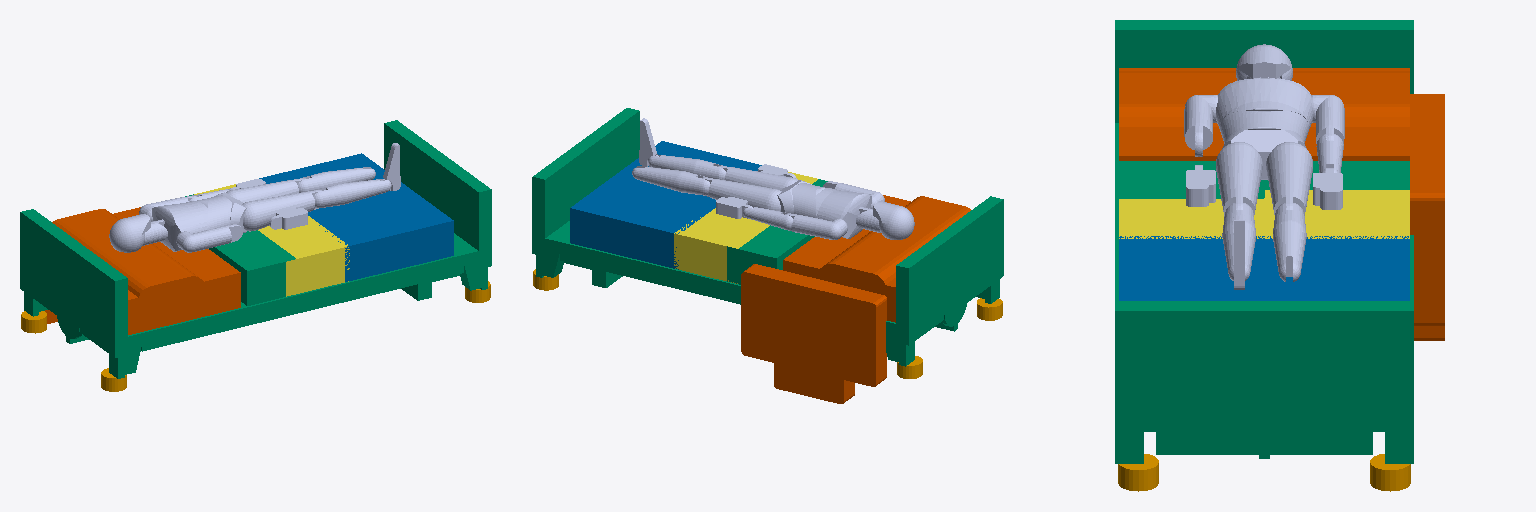
--- Render facts (derived) ---
The picture shows the robot from 3 angles, left to right: view 1: azimuth 30°, elevation 25°; view 2: azimuth 150°, elevation 25°; view 3: azimuth 270°, elevation 25°; orthographic projection.
Robot: bed_and_environment_cali_henry_tray — 33 links, 32 joints (25 revolute, 4 prismatic, 3 fixed); root link autobed/base_link; default pose: every joint at zero.
Links seen in each view (by area): view 1: autobed/bed_frame_link, autobed/head_rest_link, autobed/leg_rest_lower, autobed/leg_rest_upper, autobed/upper_body_link, autobed/quad_right_link, autobed/calf_right_link, autobed/base_link, autobed/head_link, autobed/arm_right_link, autobed/calf_left_link, autobed/quad_left_link (+3 smaller); view 2: autobed/bed_frame_link, autobed/head_rest_link, autobed/leg_rest_lower, autobed/leg_rest_upper, autobed/upper_body_link, autobed/calf_left_link, autobed/quad_left_link, autobed/base_link, autobed/head_link, autobed/calf_right_link, autobed/arm_left_link, autobed/quad_right_link (+4 smaller); view 3: autobed/bed_frame_link, autobed/head_rest_link, autobed/leg_rest_lower, autobed/leg_rest_upper, autobed/upper_body_link, autobed/quad_left_link, autobed/quad_right_link, autobed/base_link, autobed/calf_left_link, autobed/mid_body_link, autobed/arm_right_link, autobed/head_link (+7 smaller).
Link boxes in pixels (bbox=[...]): autobed/bed_frame_link: bbox=[20, 120, 491, 378]; autobed/head_rest_link: bbox=[45, 207, 240, 334]; autobed/leg_rest_lower: bbox=[259, 153, 453, 281]; autobed/leg_rest_upper: bbox=[194, 184, 349, 296]; autobed/upper_body_link: bbox=[151, 201, 208, 251]; autobed/quad_right_link: bbox=[242, 190, 321, 231]; autobed/calf_right_link: bbox=[313, 179, 391, 207]; autobed/base_link: bbox=[21, 281, 490, 391]; autobed/head_link: bbox=[109, 214, 150, 252]; autobed/arm_right_link: bbox=[176, 224, 242, 252]; autobed/calf_left_link: bbox=[298, 167, 375, 192]; autobed/quad_left_link: bbox=[226, 178, 305, 202]; autobed/bed_frame_link: bbox=[532, 108, 1003, 366]; autobed/head_rest_link: bbox=[741, 195, 970, 403]; autobed/leg_rest_lower: bbox=[570, 141, 761, 269]; autobed/leg_rest_upper: bbox=[674, 172, 817, 283]; autobed/upper_body_link: bbox=[815, 188, 872, 238]; autobed/calf_left_link: bbox=[632, 166, 709, 195]; autobed/quad_left_link: bbox=[702, 177, 781, 211]; autobed/base_link: bbox=[533, 269, 1002, 378]; autobed/head_link: bbox=[873, 201, 914, 239]; autobed/calf_right_link: bbox=[648, 154, 725, 179]; autobed/arm_left_link: bbox=[785, 213, 847, 239]; autobed/quad_right_link: bbox=[717, 165, 797, 190]; autobed/bed_frame_link: bbox=[1115, 20, 1413, 463]; autobed/head_rest_link: bbox=[1119, 68, 1444, 340]; autobed/leg_rest_lower: bbox=[1119, 236, 1409, 300]; autobed/leg_rest_upper: bbox=[1119, 190, 1409, 238]; autobed/upper_body_link: bbox=[1216, 78, 1313, 128]; autobed/quad_left_link: bbox=[1266, 142, 1312, 215]; autobed/quad_right_link: bbox=[1216, 142, 1262, 215]; autobed/base_link: bbox=[1118, 454, 1410, 491]; autobed/calf_left_link: bbox=[1273, 203, 1306, 281]; autobed/mid_body_link: bbox=[1220, 111, 1308, 143]; autobed/arm_right_link: bbox=[1184, 95, 1217, 156]; autobed/head_link: bbox=[1236, 44, 1292, 80].
Bounding box of the posed robot: 2.41 × 1.13 × 1.03 m (x, y, z).
Meshes: 23 distinct files referenced, 20 mesh visuals loaded (20 binary STL); not drawn: 3 (reference not matched to a file when rendering).

The robot description file, URDF, robot "bed_and_environment_cali_henry_tray":
<?xml version="1.0"?>
<robot
  name="bed_and_environment_cali_henry_tray">
  <link
   name="autobed/base_link">
    <inertial>
      <origin
        xyz="1.1357 5.02524375187963E-16 0.0837923121940762"
        rpy="0 0 0" />
      <mass
        value="6.1860172808288" />
      <inertia
        ixx="1.21978721906848"
        ixy="2.44249065417534E-15"
        ixz="-1.95644145492449E-15"
        iyy="8.04681346721547"
        iyz="-8.29396064187448E-16"
        izz="9.14286094259782" />
    </inertial>
    <visual>
      <origin
        xyz="0 0 0"
        rpy="0 0 0" />
      <geometry>
        <mesh
          filename="package://hrl_base_selection/urdf/bed_and_environment_cali_henry_tray/meshes/base_link.STL" />
      </geometry>
    </visual>
    <collision>
      <origin
        xyz="0 0 0"
        rpy="0 0 0" />
      <geometry>
        <mesh
          filename="package://hrl_base_selection/urdf/bed_and_environment_cali_henry_tray/meshes/base_link.STL" />
      </geometry>
    </collision>
  </link>
    <link
   name="autobed/wall_link">
    <inertial>
      <origin
        xyz="1.85973617610096 0.322876413955559 0.506156564666783"
        rpy="0 0 0" />
      <mass
        value="3480.34879229199" />
      <inertia
        ixx="6193.4907032472"
        ixy="3253.06972401852"
        ixz="-11.5632809249146"
        iyy="7114.12294656335"
        iyz="386.100445501856"
        izz="12101.3286461396" />
    </inertial>
    <visual>
      <origin
        xyz="0 0 0"
        rpy="0 0 0" />
      <geometry>
        <mesh
          filename="package://hrl_base_selection/urdf/bed_and_environment_cali_henry_tray/meshes/wall_link.STL" />
      </geometry>
    </visual>
    <collision>
      <origin
        xyz="0 0 0"
        rpy="0 0 0" />
      <geometry>
        <mesh
          filename="package://hrl_base_selection/urdf/bed_and_environment_cali_henry_tray/meshes/wall_link.STL" />
      </geometry>
    </collision>
  </link>
  <joint
   name="autobed/origin_wall_joint"
    type="fixed">
    <origin
      xyz="-0.12155 -0.0043316 0"
      rpy="0 0 -0.053897" />
    <parent
      link="autobed/base_link" />
    <child
      link="autobed/wall_link" />
    <axis
      xyz="0 0 0" />
  </joint>
  <link
   name="autobed/bed_frame_link">
    <inertial>
      <origin
        xyz="1.20574977089702 -0.00197319632794563 0.010463658046454"
        rpy="0 0 0" />
      <mass
        value="298.525793737685" />
      <inertia
        ixx="25.3079805393988"
        ixy="0.124705215046845"
        ixz="-6.18752707469867"
        iyy="161.196265779885"
        iyz="0.0978345240222597"
        izz="178.196491872743" />
    </inertial>
    <visual>
      <origin
        xyz="0 0 0"
        rpy="0 0 0" />
      <geometry>
        <mesh
          filename="package://hrl_base_selection/urdf/bed_and_environment_cali_henry_tray/meshes/bed_frame_link.STL" />
      </geometry>
    </visual>
    <collision>
      <origin
        xyz="0 0 0"
        rpy="0 0 0" />
      <geometry>
        <mesh
          filename="package://hrl_base_selection/urdf/bed_and_environment_cali_henry_tray/meshes/bed_frame_link.STL" />
      </geometry>
    </collision>
  </link>
  <joint
   name="autobed/tele_legs_joint"
    type="prismatic">
    <origin
      xyz="-0.0400000000000005 0 0.320000000000001"
      rpy="0 0 0" />
    <parent
      link="autobed/base_link" />
    <child
      link="autobed/bed_frame_link" />
    <axis
      xyz="0 0 1" />
    <limit
      lower="-1"
      upper="1"
      effort="0"
      velocity="0" />
  </joint>
  <link
   name="autobed/leg_rest_upper">
    <inertial>
      <origin
        xyz="0.184999999999998 0.10500000000001 6.79804630482359E-16"
        rpy="0 0 0" />
      <mass
        value="71.0955000000001" />
      <inertia
        ixx="5.22152012812501"
        ixy="-3.21389401302034E-17"
        ixz="-3.22023131917487E-17"
        iyy="5.77132532812501"
        iyz="-2.87322532068486E-15"
        izz="1.072357125" />
    </inertial>
    <visual>
      <origin
        xyz="0 0 0"
        rpy="0 0 0" />
      <geometry>
        <mesh
          filename="package://hrl_base_selection/urdf/bed_and_environment_cali_henry_tray/meshes/leg_rest_upper.STL" />
      </geometry>
    </visual>
    <collision>
      <origin
        xyz="0 0 0"
        rpy="0 0 0" />
      <geometry>
        <mesh
          filename="package://hrl_base_selection/urdf/bed_and_environment_cali_henry_tray/meshes/leg_rest_upper.STL" />
      </geometry>
    </collision>
  </link>
  <joint
   name="autobed/leg_rest_upper_hinge"
    type="revolute">
    <origin
      xyz="1.075 0 0"
      rpy="1.5708 -1.8438E-16 7.6543E-16" />
    <parent
      link="autobed/bed_frame_link" />
    <child
      link="autobed/leg_rest_upper" />
    <axis
      xyz="0 0 1" />
    <limit
      lower="-2"
      upper="2"
      effort="0"
      velocity="0" />
  </joint>
  <link
   name="autobed/leg_rest_lower">
    <inertial>
      <origin
        xyz="0.325000000000004 0.104999999999987 -1.38760699713425E-16"
        rpy="0 0 0" />
      <mass
        value="124.8975" />
      <inertia
        ixx="9.172940765625"
        ixy="-4.25925024767052E-17"
        ixz="-8.25969319809873E-16"
        iyy="13.111375265625"
        iyz="2.10674154540826E-16"
        izz="4.856431125" />
    </inertial>
    <visual>
      <origin
        xyz="0 0 0"
        rpy="0 0 0" />
      <geometry>
        <mesh
          filename="package://hrl_base_selection/urdf/bed_and_environment_cali_henry_tray/meshes/leg_rest_lower.STL" />
      </geometry>
    </visual>
    <collision>
      <origin
        xyz="0 0 0"
        rpy="0 0 0" />
      <geometry>
        <mesh
          filename="package://hrl_base_selection/urdf/bed_and_environment_cali_henry_tray/meshes/leg_rest_lower.STL" />
      </geometry>
    </collision>
  </link>
  <joint
   name="autobed/leg_rest_lower_hinge"
    type="revolute">
    <origin
      xyz="0.37 0 0"
      rpy="8.4655E-16 -2.4744E-16 -1.8316E-16" />
    <parent
      link="autobed/leg_rest_upper" />
    <child
      link="autobed/leg_rest_lower" />
    <axis
      xyz="0 0 -1" />
    <limit
      lower="-2"
      upper="2"
      effort="0"
      velocity="0" />
  </joint>
  <link
   name="autobed/head_rest_link">
    <inertial>
      <origin
        xyz="0.338540021639504 -0.102807900235519 0.0331726512276706"
        rpy="0 0 0" />
      <mass
        value="158.265573279578" />
      <inertia
        ixx="13.8116841883572"
        ixy="0.366851813056848"
        ixz="-0.640983438566653"
        iyy="18.5647228773414"
        iyz="-0.857921499431992"
        izz="7.19318513198363" />
    </inertial>
    <visual>
      <origin
        xyz="0 0 0"
        rpy="0 0 0" />
      <geometry>
        <mesh
          filename="package://hrl_base_selection/urdf/bed_and_environment_cali_henry_tray/meshes/head_rest_link.STL" />
      </geometry>
    </visual>
    <collision>
      <origin
        xyz="0 0 0"
        rpy="0 0 0" />
      <geometry>
        <mesh
          filename="package://hrl_base_selection/urdf/bed_and_environment_cali_henry_tray/meshes/head_rest_link.STL" />
      </geometry>
    </collision>
  </link>
  <joint
   name="autobed/head_rest_hinge"
    type="revolute">
    <origin
      xyz="0.795 0 0.21"
      rpy="1.5708 0 -3.1416" />
    <parent
      link="autobed/bed_frame_link" />
    <child
      link="autobed/head_rest_link" />
    <axis
      xyz="0 0 1" />
    <limit
      lower="-2"
      upper="2"
      effort="0"
      velocity="0" />
  </joint>
  <link
    name="autobed/neck_rotated_to_worldframe_link">
  </link>
  <joint
    name="autobed/headrest_bed_to_worldframe_joint"
    type="revolute">
    <origin
      xyz="0.25949 0.1 0"
      rpy="0. 0. 0." />
    <!--<origin-->
      <!--xyz="0.40949 0.05 0"-->
      <!--rpy="0. 0. 0." />-->
    <parent
      link="autobed/head_rest_link" />
    <child
      link="autobed/neck_rotated_to_worldframe_link" />
    <axis
      xyz="0 0 1" />
    <limit
      lower="-2"
      upper="2"
      effort="0"
      velocity="0" />
  </joint>
  <link
    name="autobed/neck_updown_worldframe_translation_link">
  </link>
  <joint
    name="autobed/bed_neck_worldframe_updown_joint"
    type="prismatic">
    <origin
      xyz="0.0 0.0 0"
      rpy="0.0 0.0 0.0" />
    <parent
      link="autobed/neck_rotated_to_worldframe_link" />
    <child
      link="autobed/neck_updown_worldframe_translation_link" />
    <axis
      xyz="-1 0 0" />
    <limit
      lower="-2"
      upper="2"
      effort="0"
      velocity="0" />
  </joint>
  <link
    name="autobed/neck_rotated_to_bedframe_link">
  </link>
  <joint
    name="autobed/bed_neck_to_bedframe_joint"
    type="revolute">
    <origin
      xyz="0.0 0.0 0"
      rpy="0. 0. 0." />
    <parent
      link="autobed/neck_updown_worldframe_translation_link" />
    <child
      link="autobed/neck_rotated_to_bedframe_link" />
    <axis
      xyz="0 0 1" />
    <limit
      lower="-2"
      upper="2"
      effort="0"
      velocity="0" />
  </joint>
  <link
    name="autobed/neck_updown_bedframe_translation_link">
  </link>
  <joint
    name="autobed/bed_neck_base_updown_bedframe_joint"
    type="prismatic">
    <origin
      xyz="0.0 0.0 0"
      rpy="0. 0. 0." />
    <parent
      link="autobed/neck_rotated_to_bedframe_link" />
    <child
      link="autobed/neck_updown_bedframe_translation_link" />
    <axis
      xyz="-1 0 0" />
    <limit
      lower="-2"
      upper="2"
      effort="0"
      velocity="0" />
  </joint>
  <link
    name="autobed/neck_base_link">
  </link>
  <joint
    name="autobed/bed_neck_base_leftright_joint"
    type="prismatic">
    <origin
      xyz="0 0 0"
      rpy="0 3.14159 0" />
    <parent
      link="autobed/neck_updown_bedframe_translation_link" />
    <child
      link="autobed/neck_base_link" />
    <axis
      xyz="0 0 -1" />
    <limit
      lower="-2"
      upper="2"
      effort="0"
      velocity="0" />
  </joint>
  <link
    name="autobed/neck_twist_link">
  </link>
  <joint
    name="autobed/neck_twist_joint"
    type="revolute">
    <origin
      xyz="0.0 0.0 0"
      rpy="0. 0. 0." />
    <parent
      link="autobed/neck_base_link" />
    <child
      link="autobed/neck_twist_link" />
    <axis
      xyz="1 0 0" />
    <limit
      lower="-2"
      upper="2"
      effort="0"
      velocity="0" />
  </joint>
  <link
    name="autobed/neck_tilt_link">
  </link>
  <joint
    name="autobed/neck_tilt_joint"
    type="revolute">
    <origin
      xyz="0.0 0.0 0"
      rpy="0. 0. 0." />
    <parent
      link="autobed/neck_twist_link" />
    <child
      link="autobed/neck_tilt_link" />
    <axis
      xyz="0 0 -1" />
    <limit
      lower="-2"
      upper="2"
      effort="0"
      velocity="0" />
  </joint>
  <link
    name="autobed/neck_link">
    <visual>
      <origin
        xyz="0 0 0"
        rpy="0 0 0" />
      <geometry>
        <mesh
          filename="package://hrl_base_selection/urdf/bed_and_environment_cali_henry_tray/meshes/neck_link.STL" />
      </geometry>
      <material
        name="">
        <color
          rgba="0.792156862745098 0.819607843137255 0.933333333333333 1" />
      </material>
    </visual>
    <collision>
      <origin
        xyz="0 0 0"
        rpy="0 0 0" />
      <geometry>
        <mesh
          filename="package://hrl_base_selection/urdf/bed_and_environment_cali_henry_tray/meshes/neck_link.STL" />
      </geometry>
    </collision>
  </link>
  <joint
    name="autobed/neck_to_neck_top_joint"
    type="fixed">
    <origin
      xyz="-0.07239 0 0"
      rpy="0 0 0" />
    <parent
      link="autobed/neck_tilt_link" />
    <child
      link="autobed/neck_link" />
  </joint>
  <link
    name="autobed/neck_top_rotated_link">
  </link>
  <joint
    name="autobed/neck_rotation_fixed_joint"
    type="fixed">
    <origin
      xyz="0 0 0"
      rpy="-1.570796 0 1.570796" />
    <parent
      link="autobed/neck_link" />
    <child
      link="autobed/neck_top_rotated_link" />
    <axis
      xyz="0 0 1" />
    <limit
      lower="-2"
      upper="2"
      effort="0"
      velocity="0" />
  </joint>
  <link
    name="autobed/head_roty_link">
  </link>
  <joint
    name="autobed/neck_head_roty_joint"
    type="revolute">
    <origin
      xyz="0.0154 0 0.07779"
      rpy="0 0 0" />
    <parent
      link="autobed/neck_top_rotated_link" />
    <child
      link="autobed/head_roty_link" />
    <axis
      xyz="0 1 0" />
    <limit
      lower="-2"
      upper="2"
      effort="0"
      velocity="0" />
  </joint>
  <link
    name="autobed/head_rotz_link">
  </link>
  <joint
    name="autobed/neck_head_rotz_joint"
    type="revolute">
    <origin
      xyz="0 0 0"
      rpy="0 0 0" />
    <parent
      link="autobed/head_roty_link" />
    <child
      link="autobed/head_rotz_link" />
    <axis
      xyz="0 0 1" />
    <limit
      lower="-2"
      upper="2"
      effort="0"
      velocity="0" />
  </joint>

  <link
    name="autobed/head_link">
    <visual>
      <origin
        xyz="0 0 0"
        rpy="0 0 0" />
      <geometry>
        <mesh
          filename="package://hrl_base_selection/urdf/bed_and_environment_cali_henry_tray/meshes/head_link.STL" />
      </geometry>
      <material
        name="">
        <color
          rgba="0.792156862745098 0.819607843137255 0.933333333333333 1" />
      </material>
    </visual>
    <collision>
      <origin
        xyz="0 0 0"
        rpy="0 0 0" />
      <geometry>
        <mesh
          filename="package://hrl_base_selection/urdf/bed_and_environment_cali_henry_tray/meshes/head_link.STL" />
      </geometry>
    </collision>
  </link>
  <joint
    name="autobed/neck_head_rotx_joint"
    type="revolute">
    <origin
      xyz="0 0 0"
      rpy="0 0 0" />
    <parent
      link="autobed/head_rotz_link" />
    <child
      link="autobed/head_link" />
    <axis
      xyz="1 0 0" />
    <limit
      lower="-2"
      upper="2"
      effort="0"
      velocity="0" />
  </joint>
  <link
    name="autobed/upper_body_link">
    <visual>
      <origin
        xyz="0 0 0"
        rpy="0 0 0" />
      <geometry>
        <mesh
          filename="package://hrl_base_selection/urdf/bed_and_environment_cali_henry_tray/meshes/upper_body_link.STL" />
      </geometry>
      <material
        name="">
        <color
          rgba="0.792156862745098 0.819607843137255 0.933333333333333 1" />
      </material>
    </visual>
    <collision>
      <origin
        xyz="0 0 0"
        rpy="0 0 0" />
      <geometry>
        <mesh
          filename="package://hrl_base_selection/urdf/bed_and_environment_cali_henry_tray/meshes/upper_body_link.STL" />
      </geometry>
    </collision>
  </link>
  <joint
    name="autobed/neck_body_joint"
    type="revolute">
    <origin
      xyz="0.00 0 0"
      rpy="0 0 0" />
    <parent
      link="autobed/neck_base_link" />
    <child
      link="autobed/upper_body_link" />
    <axis
      xyz="0 0 -1" />
    <limit
      lower="-2"
      upper="2"
      effort="0"
      velocity="0" />
  </joint>
  <link
    name="autobed/mid_body_link">
    <visual>
      <origin
        xyz="0 0 0"
        rpy="0 0 0" />
      <geometry>
        <mesh
          filename="package://hrl_base_selection/urdf/bed_and_environment_cali_henry_tray/meshes/mid_body_link.STL" />
      </geometry>
      <material
        name="">
        <color
          rgba="0.792156862745098 0.819607843137255 0.933333333333333 1" />
      </material>
    </visual>
    <collision>
      <origin
        xyz="0 0 0"
        rpy="0 0 0" />
      <geometry>
        <mesh
          filename="package://hrl_base_selection/urdf/bed_and_environment_cali_henry_tray/meshes/mid_body_link.STL" />
      </geometry>
    </collision>
  </link>
  <joint
    name="autobed/upper_mid_body_joint"
    type="revolute">
    <origin
      xyz="0.35052 0 0"
      rpy="0 0 0" />
    <parent
      link="autobed/upper_body_link" />
    <child
      link="autobed/mid_body_link" />
    <axis
      xyz="0 0 1" />
    <limit
      lower="-2"
      upper="2"
      effort="0"
      velocity="0" />
  </joint>
  <link
    name="autobed/lower_body_link">
    <visual>
      <origin
        xyz="0 0 0"
        rpy="0 0 0" />
      <geometry>
        <mesh
          filename="package://hrl_base_selection/urdf/bed_and_environment_cali_henry_tray/meshes/lower_body_link.STL" />
      </geometry>
      <material
        name="">
        <color
          rgba="0.792156862745098 0.819607843137255 0.933333333333333 1" />
      </material>
    </visual>
    <collision>
      <origin
        xyz="0 0 0"
        rpy="0 0 0" />
      <geometry>
        <mesh
          filename="package://hrl_base_selection/urdf/bed_and_environment_cali_henry_tray/meshes/lower_body_link.STL" />
      </geometry>
    </collision>
  </link>
  <joint
    name="autobed/mid_lower_body_joint"
    type="revolute">
    <origin
      xyz="0.15113 0 0"
      rpy="0 0 0" />
    <parent
      link="autobed/mid_body_link" />
    <child
      link="autobed/lower_body_link" />
    <axis
      xyz="0 0 1" />
    <limit
      lower="-2"
      upper="2"
      effort="0"
      velocity="0" />
  </joint>
  <link
    name="autobed/quad_left_link">
    <visual>
      <origin
        xyz="0 0 0"
        rpy="0 0 0" />
      <geometry>
        <mesh
          filename="package://hrl_base_selection/urdf/bed_and_environment_cali_henry_tray/meshes/quad_left_link.STL" />
      </geometry>
      <material
        name="">
        <color
          rgba="0.792156862745098 0.819607843137255 0.933333333333333 1" />
      </material>
    </visual>
    <collision>
      <origin
        xyz="0 0 0"
        rpy="0 0 0" />
      <geometry>
        <mesh
          filename="package://hrl_base_selection/urdf/bed_and_environment_cali_henry_tray/meshes/quad_left_link.STL" />
      </geometry>
    </collision>
  </link>
  <joint
    name="autobed/body_quad_left_joint"
    type="revolute">
    <origin
      xyz="0.05207 0 -0.08636"
      rpy="0 0 -.25" />
    <parent
      link="autobed/lower_body_link" />
    <child
      link="autobed/quad_left_link" />
    <axis
      xyz="0 0 1" />
    <limit
      lower="-3."
      upper="3."
      effort="0"
      velocity="0" />
  </joint>
  <link
    name="autobed/calf_left_link">
    <visual>
      <origin
        xyz="0 0 0"
        rpy="0 0 0" />
      <geometry>
        <mesh
          filename="package://hrl_base_selection/urdf/bed_and_environment_cali_henry_tray/meshes/calf_left_link.STL" />
      </geometry>
      <material
        name="">
        <color
          rgba="0.792156862745098 0.819607843137255 0.933333333333333 1" />
      </material>
    </visual>
    <collision>
      <origin
        xyz="0 0 0"
        rpy="0 0 0" />
      <geometry>
        <mesh
          filename="package://hrl_base_selection/urdf/bed_and_environment_cali_henry_tray/meshes/calf_left_link.STL" />
      </geometry>
    </collision>
  </link>
  <joint
    name="autobed/quad_calf_left_joint"
    type="revolute">
    <origin
      xyz="0.41218 0.11044 0"
      rpy="3.14159 0 3.43" />
    <parent
      link="autobed/quad_left_link" />
    <child
      link="autobed/calf_left_link" />
    <axis
      xyz="0 0 1" />
    <limit
      lower="-3."
      upper="3."
      effort="0"
      velocity="0" />
  </joint>
  <link
    name="autobed/foot_left_link">
    <visual>
      <origin
        xyz="0 0 0"
        rpy="0 0 0" />
      <geometry>
        <mesh
          filename="package://hrl_base_selection/urdf/bed_and_environment_cali_henry_tray/meshes/foot_left_link.STL" />
      </geometry>
      <material
        name="">
        <color
          rgba="0.792156862745098 0.819607843137255 0.933333333333333 1" />
      </material>
    </visual>
    <collision>
      <origin
        xyz="0 0 0"
        rpy="0 0 0" />
      <geometry>
        <mesh
          filename="package://hrl_base_selection/urdf/bed_and_environment_cali_henry_tray/meshes/foot_left_link.STL" />
      </geometry>
    </collision>
  </link>
  <joint
    name="autobed/calf_foot_left_joint"
    type="revolute">
    <origin
      xyz="-0.41279 -0.03188 0"
      rpy="0 0 0.09" />
    <parent
      link="autobed/calf_left_link" />
    <child
      link="autobed/foot_left_link" />
    <axis
      xyz="0 0 1" />
    <limit
      lower="-3."
      upper="3."
      effort="0"
      velocity="0" />
  </joint>
  <link
    name="autobed/quad_right_link">
    <visual>
      <origin
        xyz="0 0 0"
        rpy="0 0 0" />
      <geometry>
        <mesh
          filename="package://hrl_base_selection/urdf/bed_and_environment_cali_henry_tray/meshes/quad_right_link.STL" />
      </geometry>
      <material
        name="">
        <color
          rgba="0.792156862745098 0.819607843137255 0.933333333333333 1" />
      </material>
    </visual>
    <collision>
      <origin
        xyz="0 0 0"
        rpy="0 0 0" />
      <geometry>
        <mesh
          filename="package://hrl_base_selection/urdf/bed_and_environment_cali_henry_tray/meshes/quad_right_link.STL" />
      </geometry>
    </collision>
  </link>
  <joint
    name="autobed/body_quad_right_joint"
    type="revolute">
    <origin
      xyz="0.05207 0 0.08636"
      rpy="0 0 -.25" />
    <parent
      link="autobed/lower_body_link" />
    <child
      link="autobed/quad_right_link" />
    <axis
      xyz="0 0 1" />
    <limit
      lower="-3"
      upper="3"
      effort="0"
      velocity="0" />
  </joint>
  <link
    name="autobed/calf_right_link">
    <visual>
      <origin
        xyz="0 0 0"
        rpy="0 0 0" />
      <geometry>
        <mesh
          filename="package://hrl_base_selection/urdf/bed_and_environment_cali_henry_tray/meshes/calf_right_link.STL" />
      </geometry>
      <material
        name="">
        <color
          rgba="0.792156862745098 0.819607843137255 0.933333333333333 1" />
      </material>
    </visual>
    <collision>
      <origin
        xyz="0 0 0"
        rpy="0 0 0" />
      <geometry>
        <mesh
          filename="package://hrl_base_selection/urdf/bed_and_environment_cali_henry_tray/meshes/calf_right_link.STL" />
      </geometry>
    </collision>
  </link>
  <joint
    name="autobed/quad_calf_right_joint"
    type="revolute">
    <origin
      xyz="0.41218 0.11044 0"
      rpy="3.14159 0 3.43" />
    <parent
      link="autobed/quad_right_link" />
    <child
      link="autobed/calf_right_link" />
    <axis
      xyz="0 0 1" />
    <limit
      lower="-3"
      upper="3"
      effort="0"
      velocity="0" />
  </joint>
  <link
    name="autobed/foot_right_link">
    <visual>
      <origin
        xyz="0 0 0"
        rpy="0 0 0" />
      <geometry>
        <mesh
          filename="package://hrl_base_selection/urdf/bed_and_environment_cali_henry_tray/meshes/foot_right_link.STL" />
      </geometry>
      <material
        name="">
        <color
          rgba="0.792156862745098 0.819607843137255 0.933333333333333 1" />
      </material>
    </visual>
    <collision>
      <origin
        xyz="0 0 0"
        rpy="0 0 0" />
      <geometry>
        <mesh
          filename="package://hrl_base_selection/urdf/bed_and_environment_cali_henry_tray/meshes/foot_right_link.STL" />
      </geometry>
    </collision>
  </link>
  <joint
    name="autobed/calf_foot_right_joint"
    type="revolute">
    <origin
      xyz="-0.41279 -0.03188 0"
      rpy="0 0 0.09" />
    <parent
      link="autobed/calf_right_link" />
    <child
      link="autobed/foot_right_link" />
    <axis
      xyz="0 0 1" />
    <limit
      lower="-3"
      upper="3"
      effort="0"
      velocity="0" />
  </joint>
  <link
    name="autobed/arm_left_link">
    <visual>
      <origin
        xyz="0 0 0"
        rpy="0 0 0" />
      <geometry>
        <mesh
          filename="package://hrl_base_selection/urdf/bed_and_environment_cali_henry_tray/meshes/arm_left_link.STL" />
      </geometry>
      <material
        name="">
        <color
          rgba="0.792156862745098 0.819607843137255 0.933333333333333 1" />
      </material>
    </visual>
    <collision>
      <origin
        xyz="0 0 0"
        rpy="0 0 0" />
      <geometry>
        <mesh
          filename="package://hrl_base_selection/urdf/bed_and_environment_cali_henry_tray/meshes/arm_left_link.STL" />
      </geometry>
    </collision>
  </link>
  <joint
    name="autobed/body_arm_left_joint"
    type="revolute">
    <origin
      xyz="0.09652 0 -0.17526"
      rpy="0 0 0" />
    <parent
      link="autobed/upper_body_link" />
    <child
      link="autobed/arm_left_link" />
    <axis
      xyz="0 0 1" />
    <limit
      lower="-3"
      upper="3"
      effort="0"
      velocity="0" />
  </joint>
  <link
    name="autobed/forearm_left_link">
    <visual>
      <origin
        xyz="0 0 0"
        rpy="0 0 0" />
      <geometry>
        <mesh
          filename="package://hrl_base_selection/urdf/bed_and_environment_cali_henry_tray/meshes/forearm_left_link.STL" />
      </geometry>
      <material
        name="">
        <color
          rgba="0.792156862745098 0.819607843137255 0.933333333333333 1" />
      </material>
    </visual>
    <collision>
      <origin
        xyz="0 0 0"
        rpy="0 0 0" />
      <geometry>
        <mesh
          filename="package://hrl_base_selection/urdf/bed_and_environment_cali_henry_tray/meshes/forearm_left_link.STL" />
      </geometry>
    </collision>
  </link>
  <joint
    name="autobed/arm_forearm_left_joint"
    type="revolute">
    <origin
      xyz="0.28174 -0.0106 -0.04953"
      rpy="0 0 0" />
    <parent
      link="autobed/arm_left_link" />
    <child
      link="autobed/forearm_left_link" />
    <axis
      xyz="0 0 1" />
    <limit
      lower="-3"
      upper="3"
      effort="0"
      velocity="0" />
  </joint>
  <link
    name="autobed/hand_left_link">
    <visual>
      <origin
        xyz="0 0 0"
        rpy="0 0 0" />
      <geometry>
        <mesh
          filename="package://hrl_base_selection/urdf/bed_and_environment_cali_henry_tray/meshes/hand_left_link.STL" />
      </geometry>
      <material
        name="">
        <color
          rgba="0.792156862745098 0.819607843137255 0.933333333333333 1" />
      </material>
    </visual>
    <collision>
      <origin
        xyz="0 0 0"
        rpy="0 0 0" />
      <geometry>
        <mesh
          filename="package://hrl_base_selection/urdf/bed_and_environment_cali_henry_tray/meshes/hand_left_link.STL" />
      </geometry>
    </collision>
  </link>
  <joint
    name="autobed/forearm_hand_left_joint"
    type="revolute">
    <origin
      xyz="0.25146 0 0"
      rpy="0 0 0" />
    <parent
      link="autobed/forearm_left_link" />
    <child
      link="autobed/hand_left_link" />
    <axis
      xyz="0 0 1" />
    <limit
      lower="-3"
      upper="3"
      effort="0"
      velocity="0" />
  </joint>
  <link
    name="autobed/arm_right_link">
    <visual>
      <origin
        xyz="0 0 0"
        rpy="0 0 0" />
      <geometry>
        <mesh
          filename="package://hrl_base_selection/urdf/bed_and_environment_cali_henry_tray/meshes/arm_right_link.STL" />
      </geometry>
      <material
        name="">
        <color
          rgba="0.792156862745098 0.819607843137255 0.933333333333333 1" />
      </material>
    </visual>
    <collision>
      <origin
        xyz="0 0 0"
        rpy="0 0 0" />
      <geometry>
        <mesh
          filename="package://hrl_base_selection/urdf/bed_and_environment_cali_henry_tray/meshes/arm_right_link.STL" />
      </geometry>
    </collision>
  </link>
  <joint
    name="autobed/body_arm_right_joint"
    type="revolute">
    <origin
      xyz="0.09652 0 0.17526"
      rpy="0 0 0" />
    <parent
      link="autobed/upper_body_link" />
    <child
      link="autobed/arm_right_link" />
    <axis
      xyz="0 0 1" />
    <limit
      lower="-3"
      upper="3"
      effort="0"
      velocity="0" />
  </joint>
  <link
    name="autobed/forearm_right_link">
    <visual>
      <origin
        xyz="0 0 0"
        rpy="0 0 0" />
      <geometry>
        <mesh
          filename="package://hrl_base_selection/urdf/bed_and_environment_cali_henry_tray/meshes/forearm_right_link.STL" />
      </geometry>
      <material
        name="">
        <color
          rgba="0.792156862745098 0.819607843137255 0.933333333333333 1" />
      </material>
    </visual>
    <collision>
      <origin
        xyz="0 0 0"
        rpy="0 0 0" />
      <geometry>
        <mesh
          filename="package://hrl_base_selection/urdf/bed_and_environment_cali_henry_tray/meshes/forearm_right_link.STL" />
      </geometry>
    </collision>
  </link>
  <joint
    name="autobed/arm_forearm_right_joint"
    type="revolute">
    <origin
      xyz="0.28194 0 0.04953"
      rpy="0 0 0" />
    <parent
      link="autobed/arm_right_link" />
    <child
      link="autobed/forearm_right_link" />
    <axis
      xyz="0 0 1" />
    <limit
      lower="-3"
      upper="3"
      effort="0"
      velocity="0" />
  </joint>
  <link
    name="autobed/hand_right_link">
    <visual>
      <origin
        xyz="0 0 0"
        rpy="0 0 0" />
      <geometry>
        <mesh
          filename="package://hrl_base_selection/urdf/bed_and_environment_cali_henry_tray/meshes/hand_right_link.STL" />
      </geometry>
      <material
        name="">
        <color
          rgba="0.792156862745098 0.819607843137255 0.933333333333333 1" />
      </material>
    </visual>
    <collision>
      <origin
        xyz="0 0 0"
        rpy="0 0 0" />
      <geometry>
        <mesh
          filename="package://hrl_base_selection/urdf/bed_and_environment_cali_henry_tray/meshes/hand_right_link.STL" />
      </geometry>
    </collision>
  </link>
  <joint
    name="autobed/forearm_hand_right_joint"
    type="revolute">
    <origin
      xyz="0.25146 0 0"
      rpy="0 0 0" />
    <parent
      link="autobed/forearm_right_link" />
    <child
      link="autobed/hand_right_link" />
    <axis
      xyz="0 0 1" />
    <limit
      lower="-3"
      upper="3"
      effort="0"
      velocity="0" />
  </joint>

</robot>
